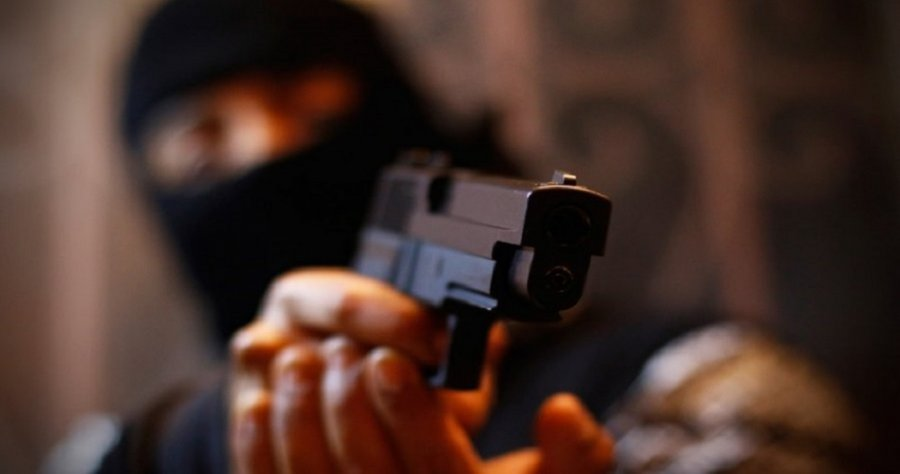Arma Real: (356, 152, 616, 398)
